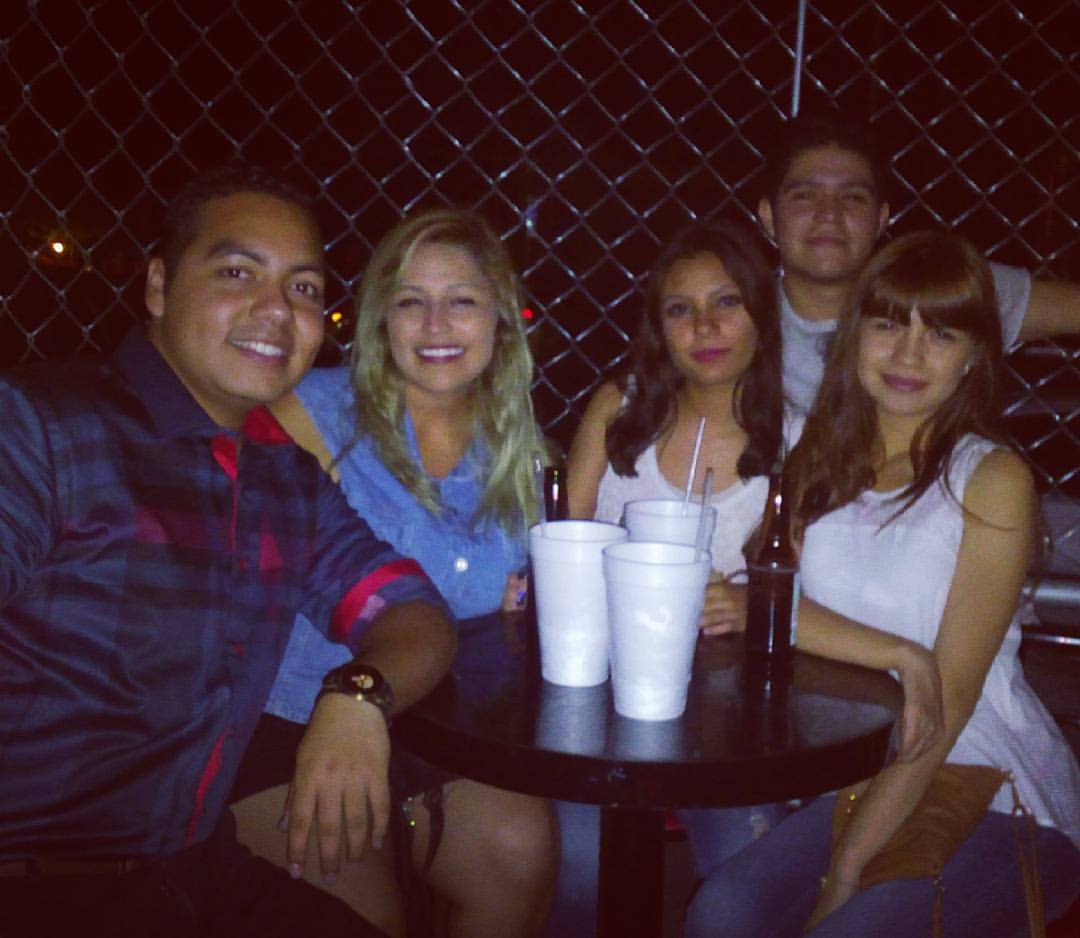Yoshi: (85, 145, 341, 495)
